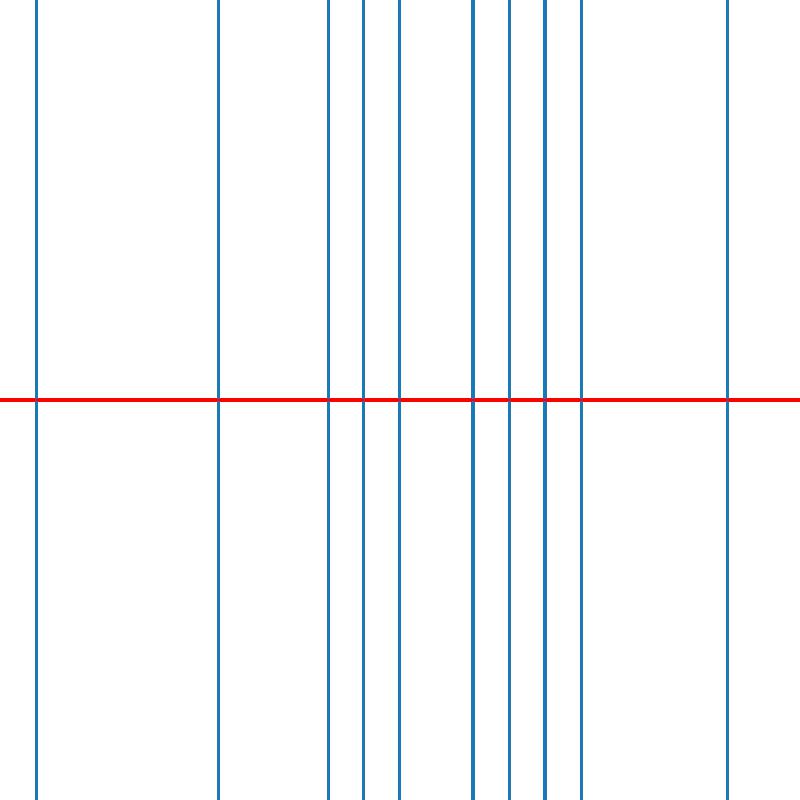root: (541, 396, 549, 404), (32, 396, 40, 404), (578, 396, 585, 404), (323, 396, 330, 404), (396, 396, 403, 404), (469, 396, 476, 404), (214, 396, 221, 404), (360, 396, 367, 404), (505, 396, 512, 404), (723, 396, 730, 404)
